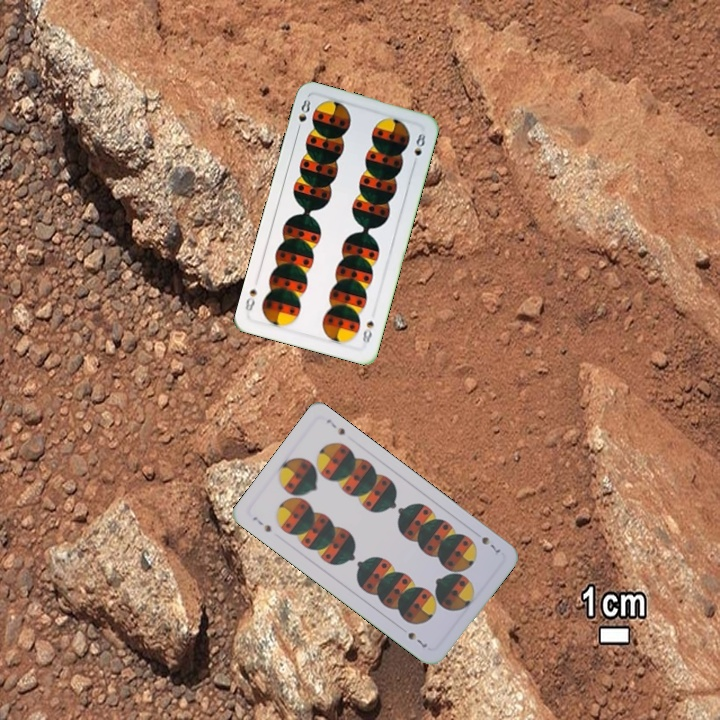S7: (477, 532, 503, 558), (249, 512, 274, 535)
S8: (293, 95, 313, 135), (358, 317, 376, 349)
